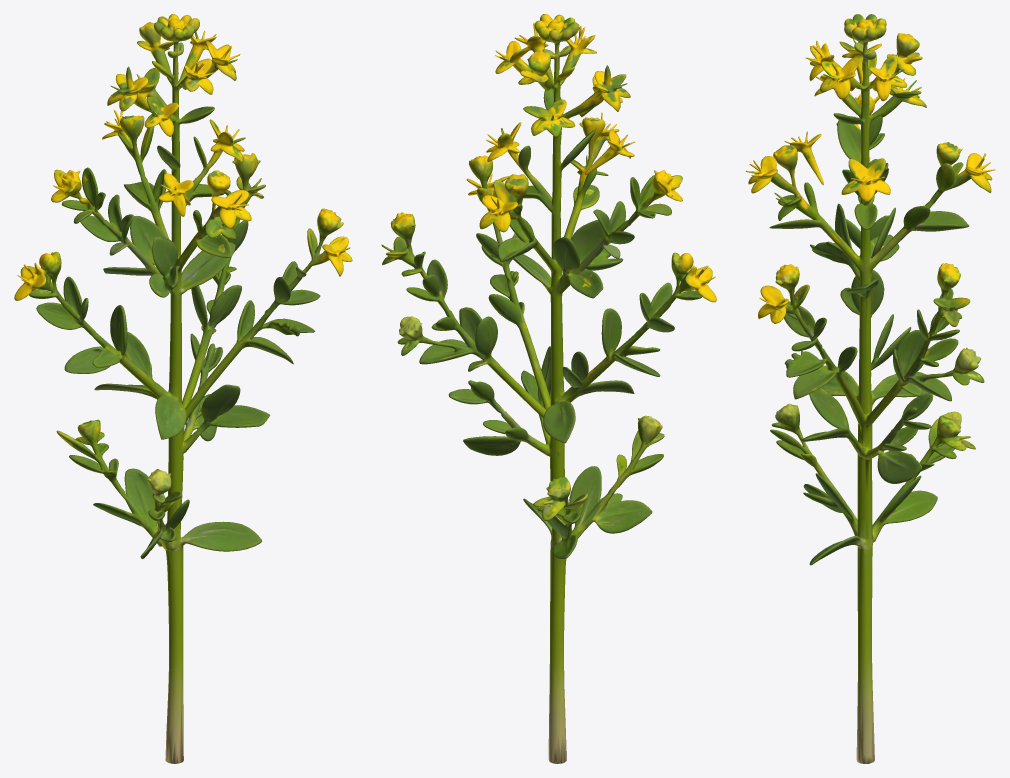
File: paicaoxiang.glb
3 renders of one model, left to right at view 1: azimuth 30°, elevation 25°; view 2: azimuth 150°, elevation 25°; view 3: azimuth 270°, elevation 25°, orthographic.
Parts seen in each view (by area): view 1: node_0; view 2: node_0; view 3: node_0.
Part boxes in pixels (box(x1,y1,x2,y2)): node_0: box(14, 14, 352, 763); node_0: box(381, 14, 716, 763); node_0: box(745, 14, 995, 763).
Bounding box in the file's own units: 0.4918 × 1.19 × 0.3646.
1 material, 1 textured.
